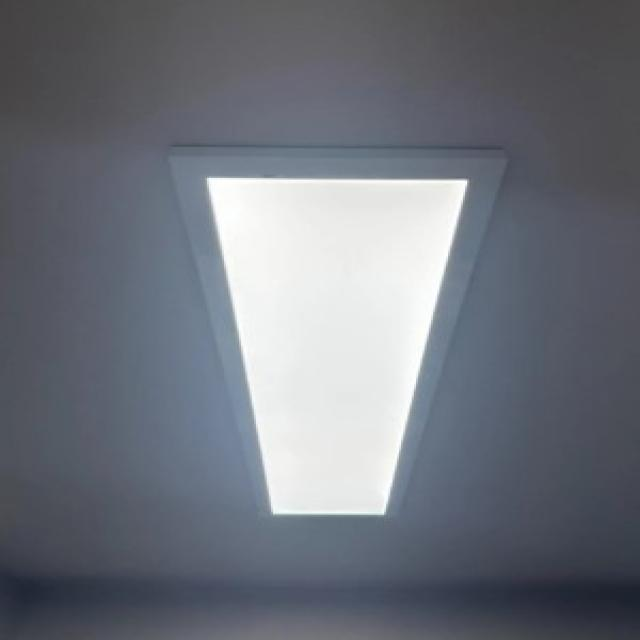light: (167, 143, 508, 520)
